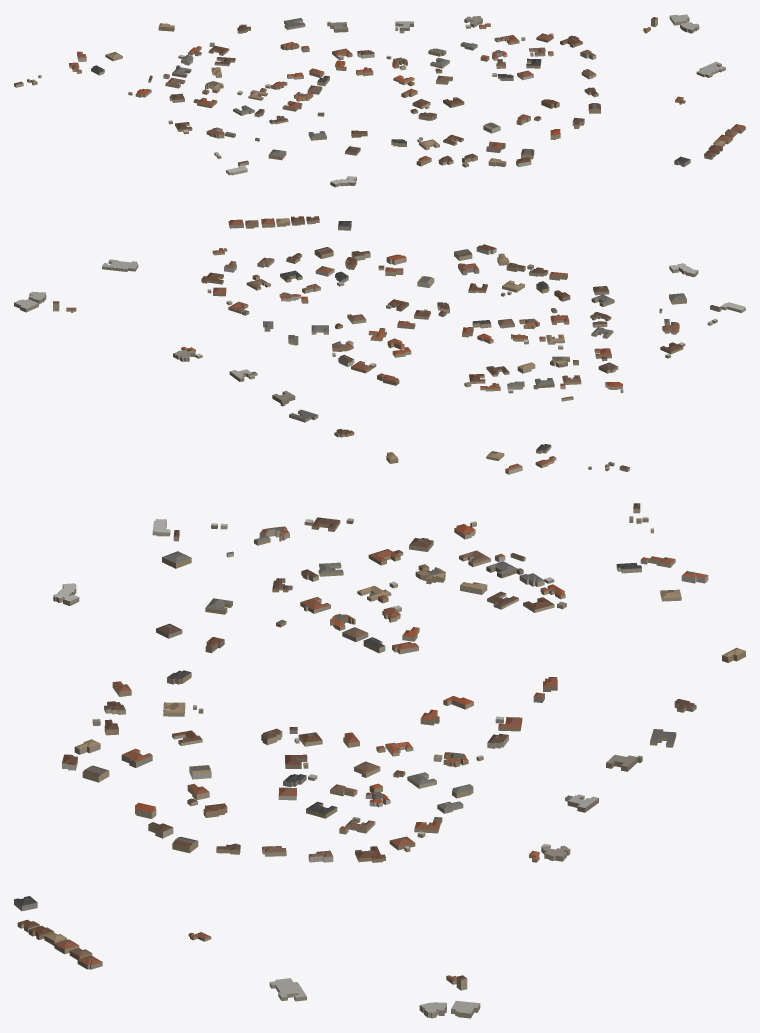
The picture shows the model from 3 angles, top to bottom: view 1: azimuth 30°, elevation 25°; view 2: azimuth 150°, elevation 25°; view 3: azimuth 270°, elevation 25°; orthographic projection. The views are drawn at different scales.
Visible parts, largest first — view 1: buildings_r0_c0_lod1; view 2: buildings_r0_c0_lod1; view 3: buildings_r0_c0_lod1.
Boxes of the visible parts, bbox=[...] form: buildings_r0_c0_lod1: bbox=[14, 14, 745, 187]; buildings_r0_c0_lod1: bbox=[14, 216, 745, 474]; buildings_r0_c0_lod1: bbox=[14, 503, 745, 1018].
Bounding box in the file's own units: 1139 × 118 × 783.
